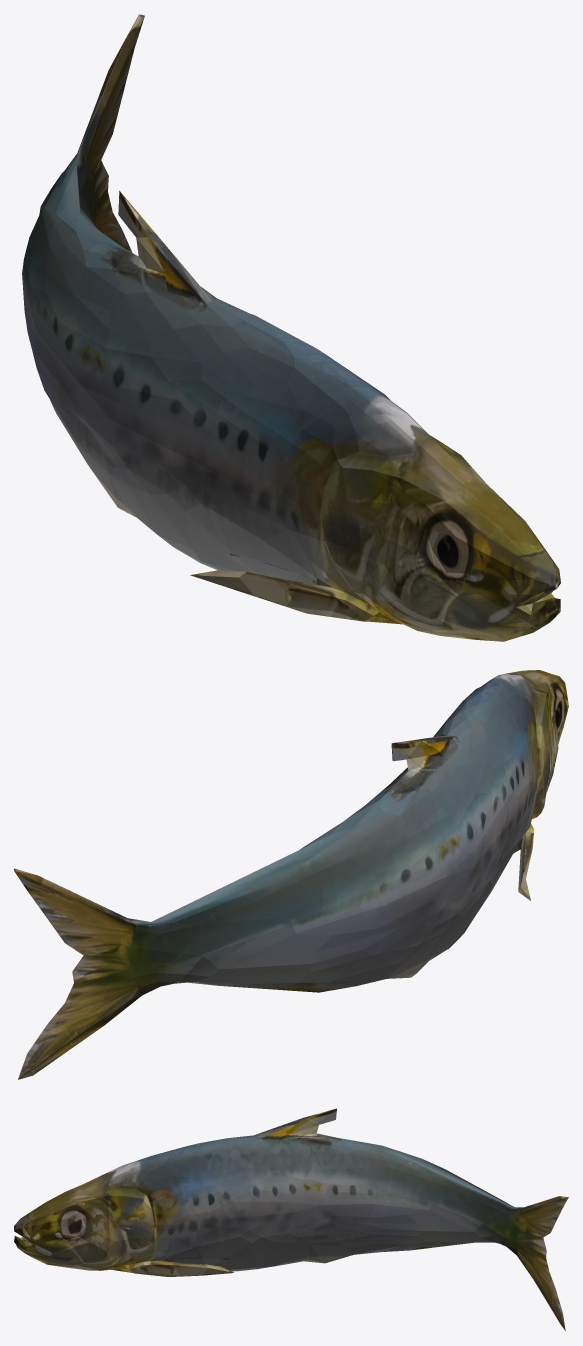
Rendered from sardine.glb.
The picture shows the model from 3 angles, top to bottom: view 1: azimuth 30°, elevation 25°; view 2: azimuth 150°, elevation 25°; view 3: azimuth 270°, elevation 25°; orthographic projection. The views are drawn at different scales.
Visible parts, largest first — view 1: tripo_node_3f32bc60; view 2: tripo_node_3f32bc60; view 3: tripo_node_3f32bc60.
Boxes of the visible parts, <box> form: tripo_node_3f32bc60: <box>22,14,560,641</box>; tripo_node_3f32bc60: <box>14,670,568,1079</box>; tripo_node_3f32bc60: <box>14,1108,568,1330</box>.
Size of the model in its own units: 18.93 by 18.94 by 58.71.
1 material, 1 textured.
